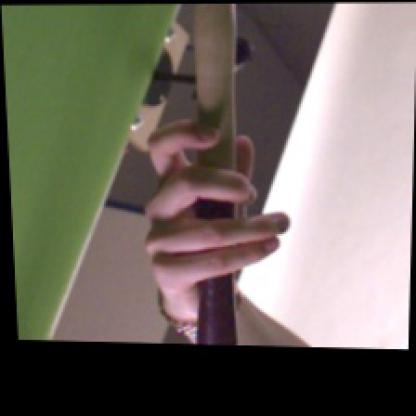Hand: (144, 118, 290, 320)
